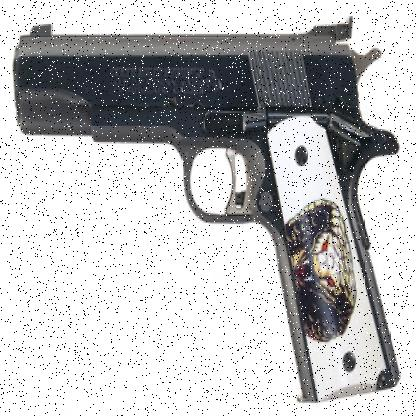pistol: (5, 13, 405, 406)
